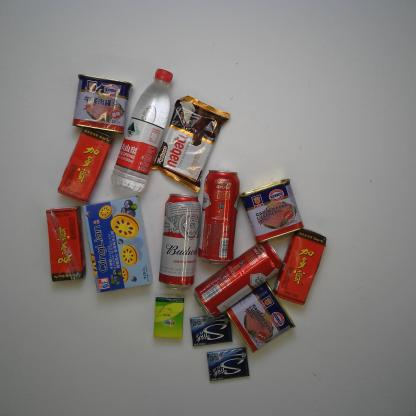Alcohol: (192, 240, 284, 319), (195, 167, 241, 266), (158, 192, 202, 289)
Canned Food: (225, 280, 296, 354), (239, 177, 306, 242), (69, 72, 134, 134)
Dessert: (149, 94, 231, 192), (79, 195, 156, 294)
Drink: (110, 67, 174, 192), (56, 126, 114, 205), (273, 224, 327, 306), (44, 205, 88, 284)
Gum: (205, 347, 250, 382), (190, 313, 234, 348)
Tissue: (152, 294, 186, 341)
